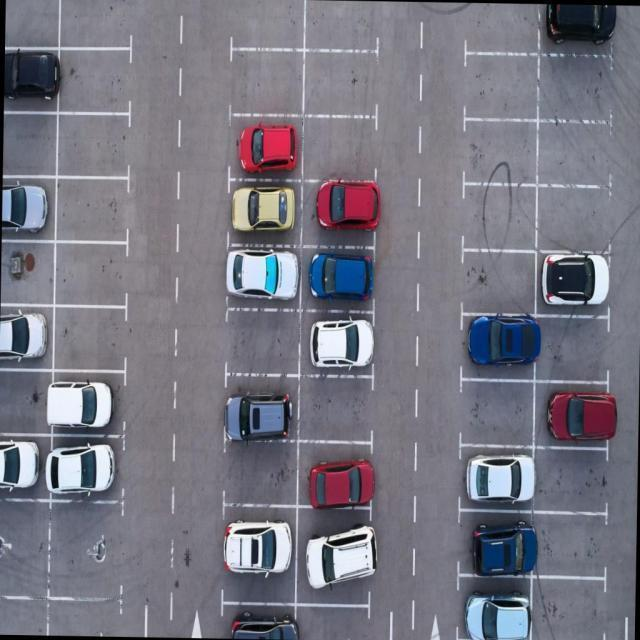space-empty: (49, 500, 124, 595), (52, 240, 130, 308), (459, 187, 539, 252), (461, 118, 537, 186), (536, 512, 606, 583), (460, 247, 540, 309), (538, 185, 614, 250), (52, 180, 129, 244), (52, 115, 133, 175), (228, 306, 299, 374), (231, 50, 304, 116), (54, 309, 128, 373), (461, 384, 535, 448), (530, 580, 606, 640), (301, 58, 378, 117), (295, 379, 372, 437), (0, 504, 48, 597), (539, 315, 612, 376), (533, 451, 607, 511), (301, 118, 377, 176), (463, 2, 539, 60), (59, 57, 133, 115), (223, 444, 294, 504), (55, 0, 135, 53), (540, 58, 609, 119), (540, 128, 610, 186), (465, 67, 537, 118), (304, 1, 383, 46), (0, 370, 53, 435), (3, 114, 58, 174), (230, 0, 303, 44), (1, 245, 52, 299), (46, 600, 119, 636), (5, 0, 58, 48), (295, 612, 373, 640), (0, 599, 47, 635)
space-occupied: (295, 508, 371, 602), (224, 505, 295, 600), (461, 307, 538, 377), (52, 433, 123, 501), (297, 313, 372, 377), (537, 385, 611, 449), (222, 376, 297, 438), (458, 511, 533, 573), (456, 575, 529, 638), (298, 246, 374, 306), (458, 443, 531, 504), (293, 446, 372, 501), (299, 186, 373, 244), (540, 252, 611, 312), (227, 116, 302, 172), (227, 183, 302, 238), (54, 372, 124, 430), (538, 4, 614, 54), (0, 305, 54, 374), (230, 247, 300, 297), (4, 53, 57, 114), (0, 434, 50, 496), (2, 179, 54, 233), (220, 605, 295, 640)
